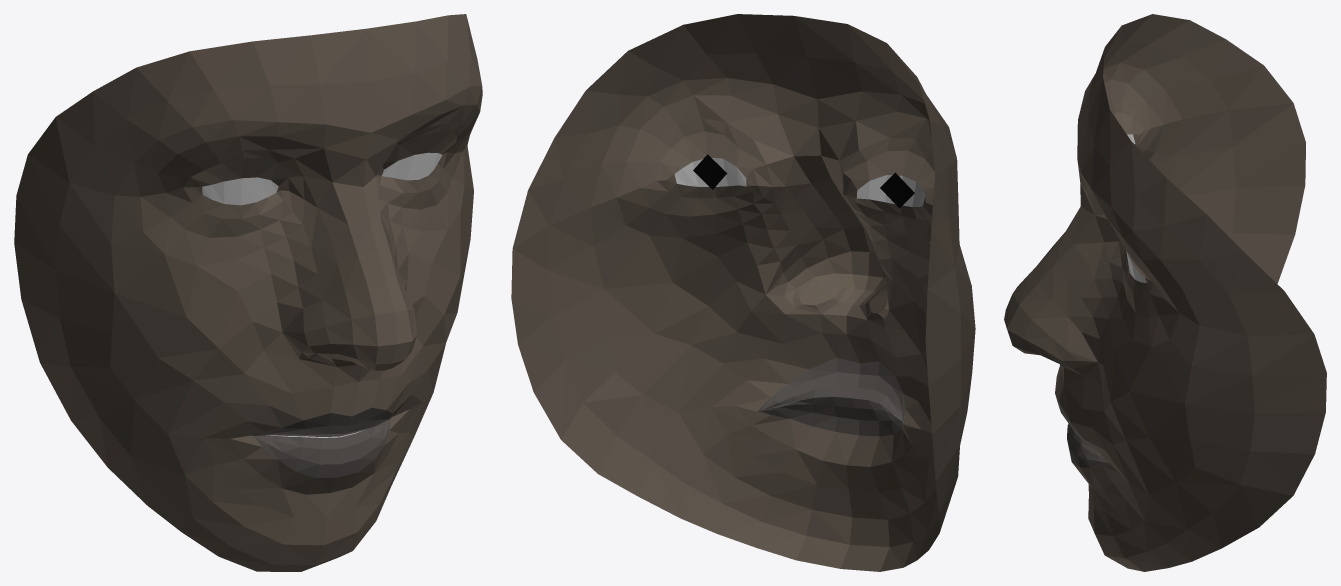
Rendered from sad.obj.
The picture shows the model from 3 angles, left to right: view 1: azimuth 30°, elevation 25°; view 2: azimuth 150°, elevation 25°; view 3: azimuth 270°, elevation 25°; orthographic projection. The views are drawn at different scales.
Visible parts, largest first — view 1: face_model_with_iris; view 2: face_model_with_iris; view 3: face_model_with_iris.
Boxes of the visible parts, bbox=[...] form: face_model_with_iris: bbox=[14, 14, 482, 571]; face_model_with_iris: bbox=[511, 14, 975, 571]; face_model_with_iris: bbox=[1004, 14, 1326, 571].
Bounding box in the file's own units: 0.7969 × 0.9963 × 0.5773.
